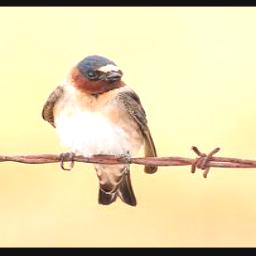Swallow: (42, 53, 159, 207)
